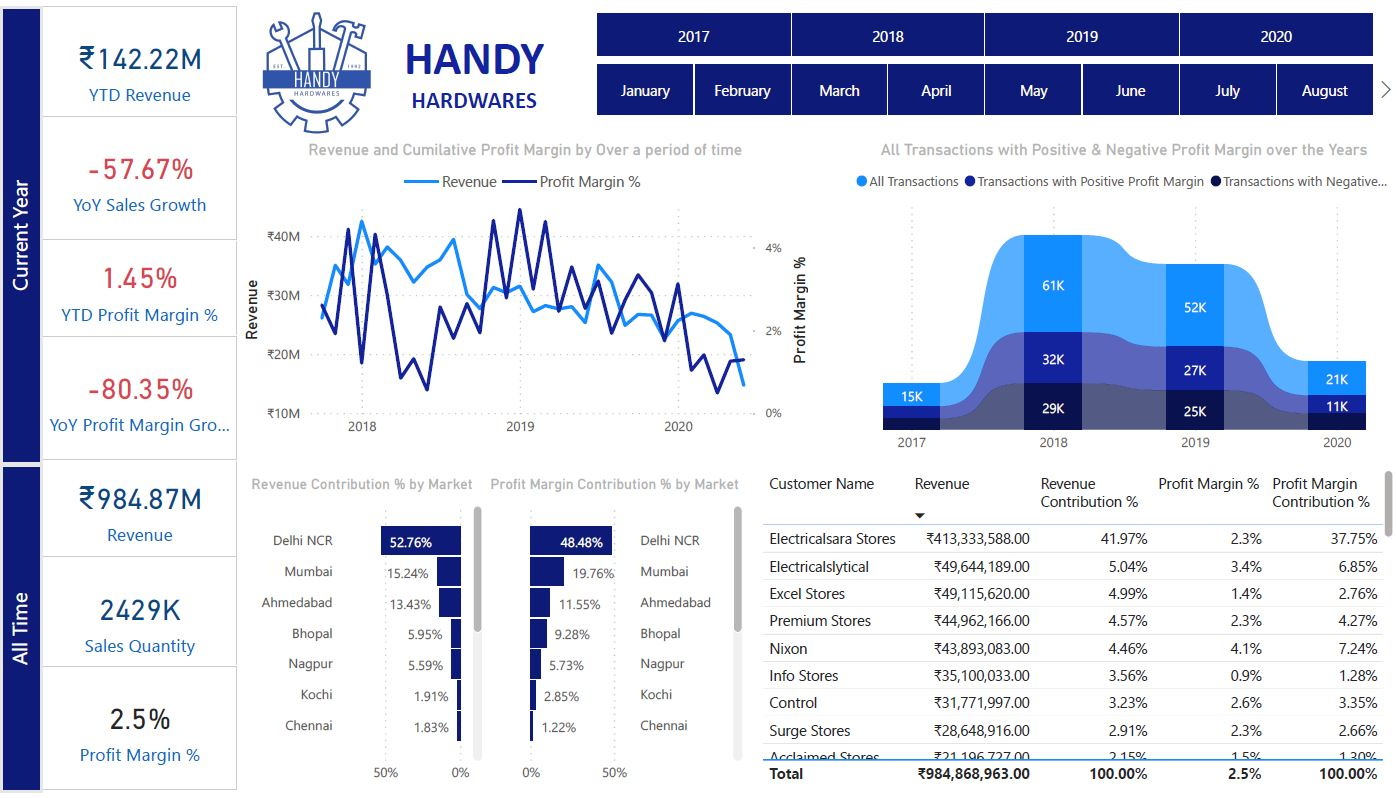

What the dashboard file says about the page in this screenshot:
{"tool":"powerbi","page":{"name":"Key Insights Report","canvas":[1280,720],"ordinal":0},"visuals":[{"type":"slicer","fields":{"Values":["sales date.year"]},"box":[521.4,0,758.6,54.3],"z":0},{"type":"slicer","fields":{"Values":["sales date.date.Variation.Date Hierarchy.Month"]},"box":[521.4,47.1,758.6,60],"z":1000},{"type":"card","fields":{"Values":["Base Measures.Revenue"]},"box":[37.4,402.9,180,114],"z":2000},{"type":"lineChart","title":"Revenue and Cumilative Profit Margin by Over a period of time","fields":{"Category":["sales date.cy_date.Variation.Date Hierarchy.Year","sales date.cy_date.Variation.Date Hierarchy.Quarter","sales date.cy_date.Variation.Date Hierarchy.Month"],"Y":["Base Measures.Revenue"],"Y2":["Base Measures.All Time Profit Margin %"]},"box":[217.1,124.3,527.1,278.6],"z":3000},{"type":"card","fields":{"Values":["Base Measures.Sales Quantity"]},"box":[37.4,503.6,180,114],"z":4000},{"type":"card","fields":{"Values":["Base Measures.Revenue Latest Year"]},"box":[37.4,0,180,114],"z":7000},{"type":"image","box":[217.1,0,148.6,124.3],"z":8000},{"type":"textbox","box":[345.7,17.1,175.7,88.6],"z":9000},{"type":"ribbonChart","title":"All Transactions with Positive & Negative Profit Margin over the Years","fields":{"Category":["sales date.date.Variation.Date Hierarchy.Year","sales date.date.Variation.Date Hierarchy.Quarter","sales date.date.Variation.Date Hierarchy.Month","sales date.date.Variation.Date Hierarchy.Day"],"Y":["Base Measures.Count of all transactions","Base Measures.Count of all transactions with positive profit margin","Base Measures.Count of all transactions with zero or negative profit margin"]},"box":[777.1,124.3,502.9,294.3],"z":10000},{"type":"card","fields":{"Values":["Base Measures.All Time Profit Margin %"]},"box":[37.4,604.3,180,114],"z":11000},{"type":"barChart","title":"Profit Margin Contribution % by Market","fields":{"Y":["Base Measures.Profit Margin Contribution %"],"Category":["sales markets.markets_name"]},"box":[445.7,430,232.9,290],"z":12000},{"type":"card","fields":{"Values":["Base Measures.Current YTD Profit"]},"box":[37.4,201.4,180,114],"z":13000},{"type":"clusteredBarChart","title":"Revenue Contribution % by Market","fields":{"Category":["sales markets.markets_name"],"Y":["Base Measures.Revenue Contribution %"]},"box":[217.1,430,228.6,290],"z":14000},{"type":"tableEx","fields":{"Values":["sales customers.custmer_name","Base Measures.All Time Revenue","Base Measures.Revenue Contribution %","Base Measures.All Time Profit Margin %","Base Measures.Profit Margin Contribution %"]},"box":[692.9,420,587.1,300],"z":15000},{"type":"card","fields":{"Values":["Base Measures.Current YoY Sales Growth %"]},"box":[37.4,100.7,180,114],"z":16000},{"type":"card","fields":{"Values":["Base Measures.Current YoY Profit Margin Growth %"]},"box":[37.4,302.1,180,114],"z":17000},{"type":"actionButton","title":"Current Year","box":[-0.4,0.7,38.6,418.6],"z":17500},{"type":"actionButton","title":"Current Year","box":[0,420,38.6,300],"z":18000}]}

Visuals, with their boxes in screenshot pixels (x1, y1, x2, y2), scaled from the page's 1280x720 canvas onto the 1397x798 screenshot:
slicer - sales date.year: x1=569, y1=0, x2=1396, y2=60
slicer - sales date.date.Variation.Date Hierarchy.Month: x1=569, y1=52, x2=1396, y2=119
card - Base Measures.Revenue: x1=41, y1=447, x2=237, y2=573
"Revenue and Cumilative Profit Margin by Over a period of time" lineChart: x1=237, y1=138, x2=812, y2=447
card - Base Measures.Sales Quantity: x1=41, y1=558, x2=237, y2=685
card - Base Measures.Revenue Latest Year: x1=41, y1=0, x2=237, y2=126
image: x1=237, y1=0, x2=399, y2=138
textbox: x1=377, y1=19, x2=569, y2=117
"All Transactions with Positive & Negative Profit Margin over the Years" ribbonChart: x1=848, y1=138, x2=1396, y2=464
card - Base Measures.All Time Profit Margin %: x1=41, y1=670, x2=237, y2=796
"Profit Margin Contribution % by Market" barChart: x1=486, y1=477, x2=741, y2=797
card - Base Measures.Current YTD Profit: x1=41, y1=223, x2=237, y2=350
"Revenue Contribution % by Market" clusteredBarChart: x1=237, y1=477, x2=486, y2=797
tableEx - sales customers.custmer_name x Base Measures.All Time Revenue: x1=756, y1=466, x2=1396, y2=797
card - Base Measures.Current YoY Sales Growth %: x1=41, y1=112, x2=237, y2=238
card - Base Measures.Current YoY Profit Margin Growth %: x1=41, y1=335, x2=237, y2=461
"Current Year" actionButton: x1=0, y1=1, x2=42, y2=465
"Current Year" actionButton: x1=0, y1=466, x2=42, y2=797
